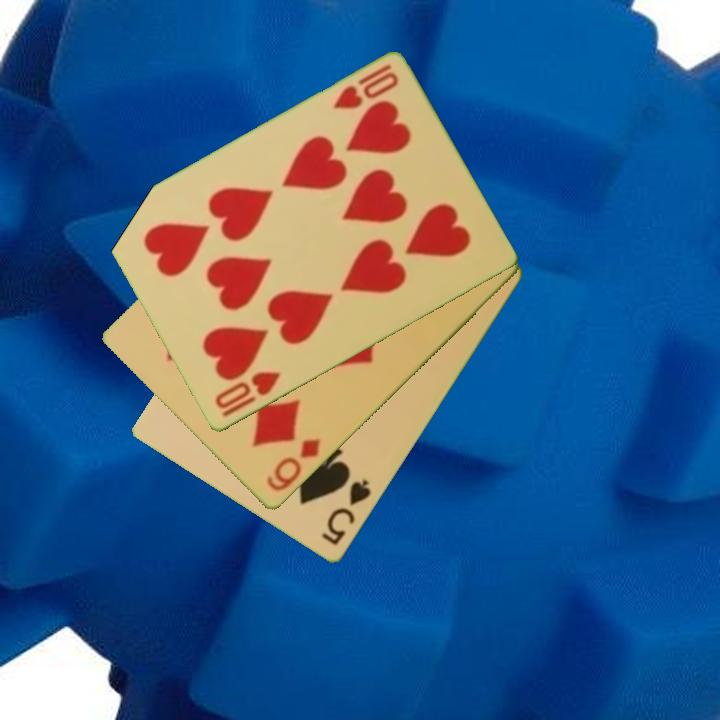10h: (329, 61, 402, 113), (211, 368, 284, 413)
5s: (317, 476, 375, 549)
6d: (262, 435, 324, 495)
